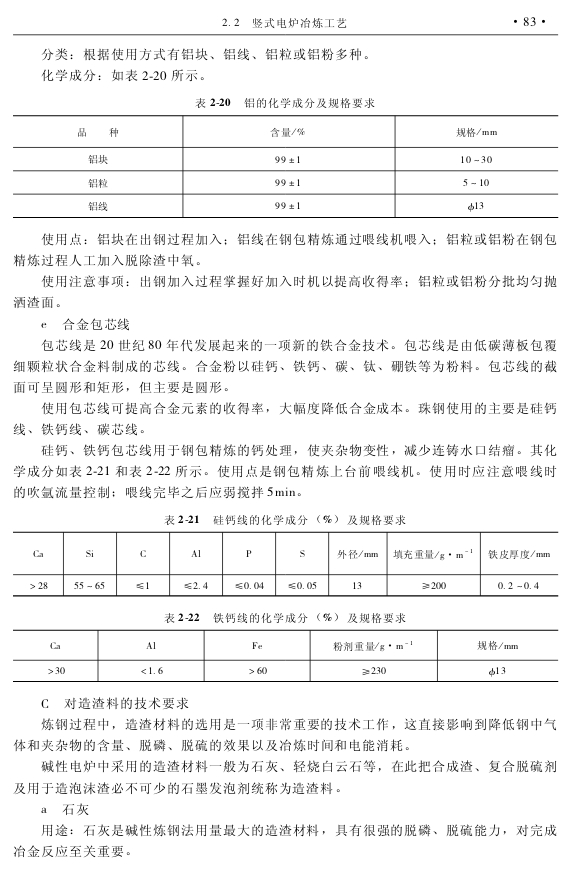table: (13, 115, 558, 218), (13, 531, 559, 597), (13, 629, 558, 682)
